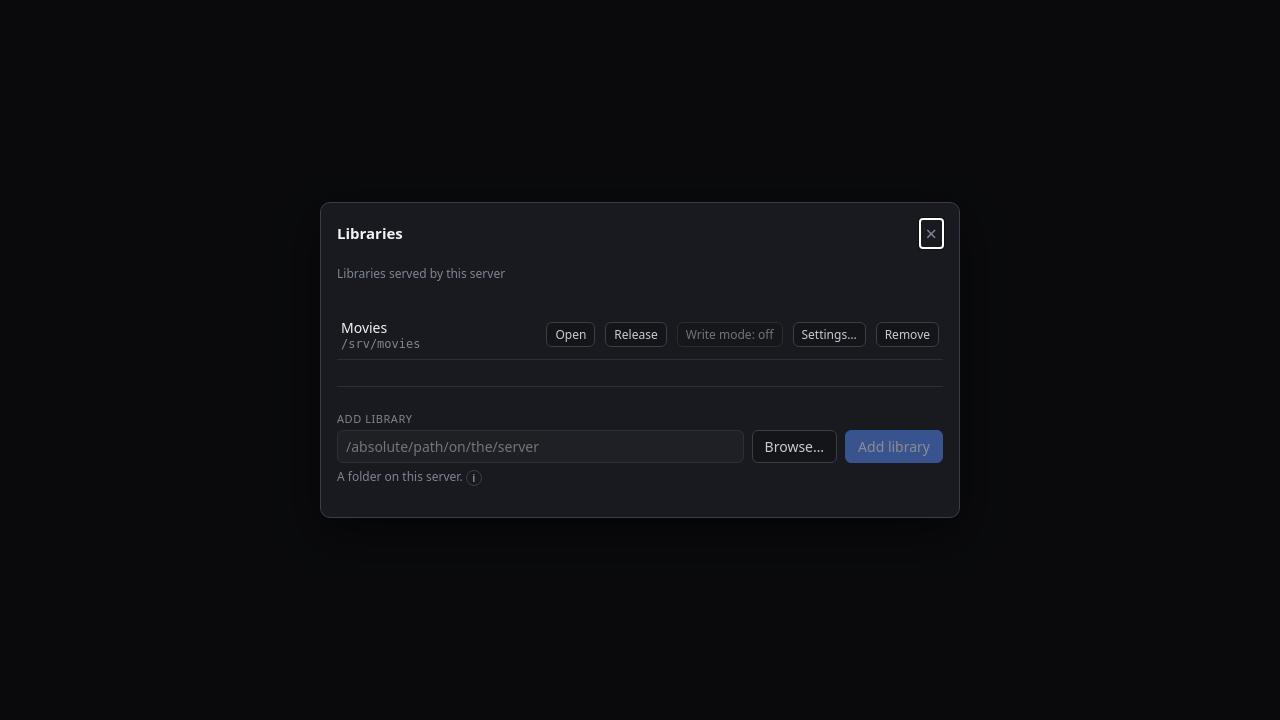
Scenario: a failed post-registration refresh cannot repeat the native add
The width and height of the screenshot is (1280, 720).
Expected: the text "Movies" is shown, x1=341 y1=318 x2=387 y2=337
Click the button "Browse…": (794, 446) x1=752 y1=430 x2=837 y2=463
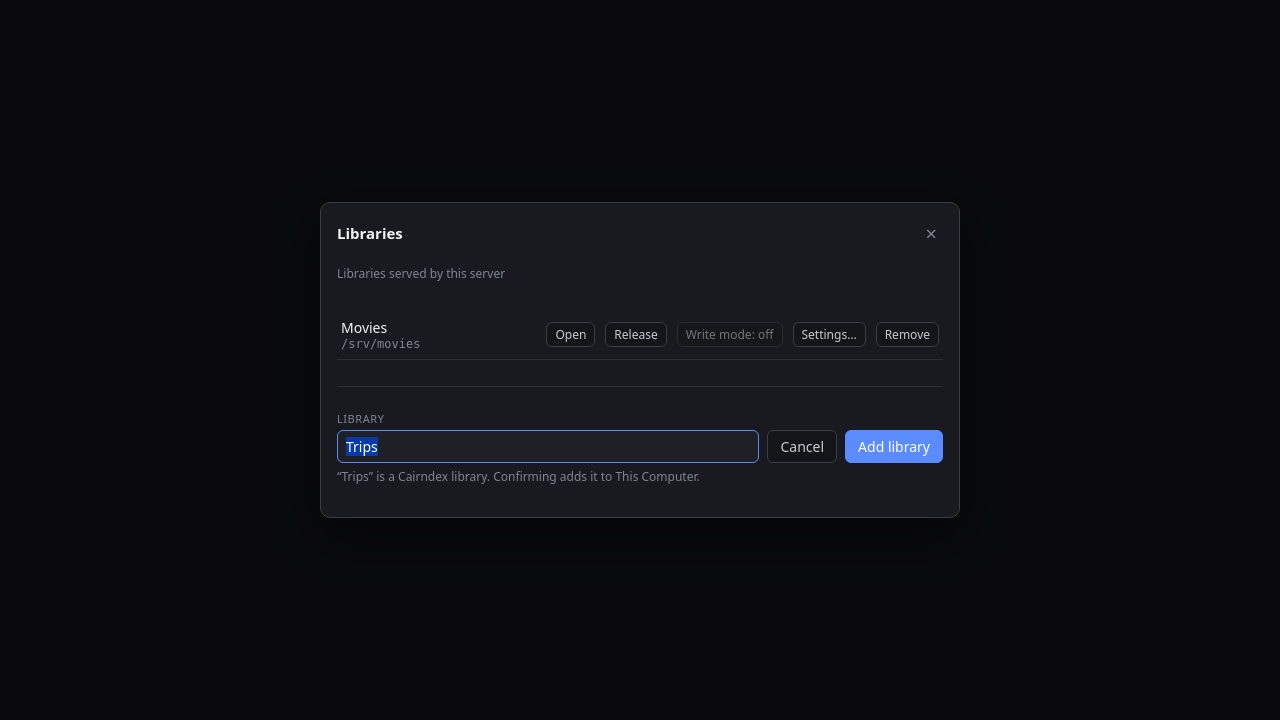
Expected: the field named "Library name" is shown, x1=337 y1=430 x2=760 y2=463
Click the button "Add library": (894, 446) x1=845 y1=430 x2=943 y2=463
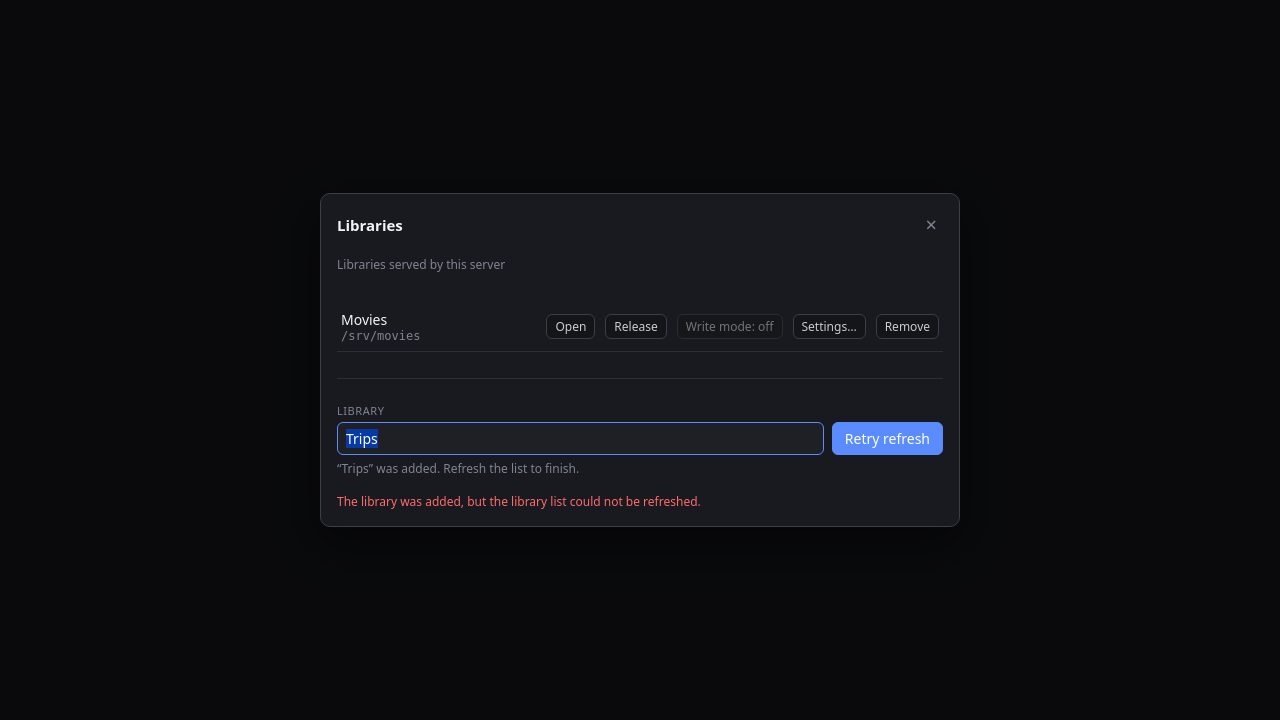
Expected: the text "The library was added, but the library list could not be refreshed." is shown, x1=337 y1=493 x2=701 y2=510
Expected: the text "“Trips” was added. Refresh the list to finish." is shown, x1=337 y1=460 x2=579 y2=476
Expected: the button "Add library" is gone
